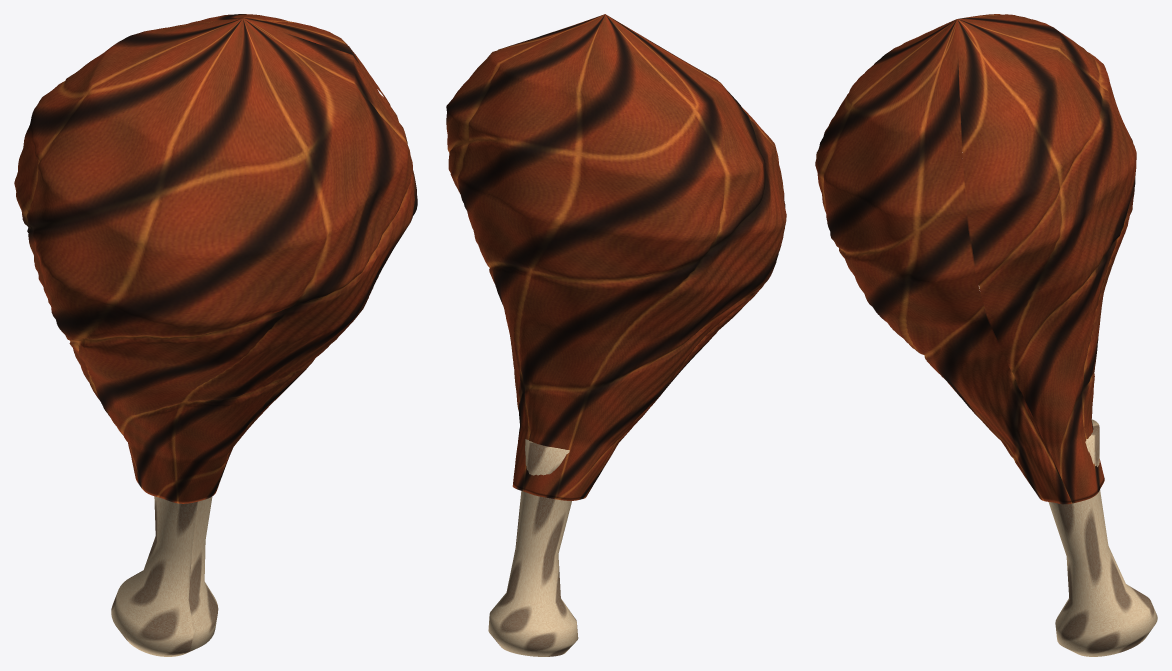
File: roast_haunch.glb
3 renders of one model, left to right at view 1: azimuth 30°, elevation 25°; view 2: azimuth 150°, elevation 25°; view 3: azimuth 270°, elevation 25°, orthographic. The views are drawn at different scales.
Parts seen in each view (by area): view 1: roast_haunch basted chestnut roast with golden fat, Ivory dense cortical bone with residual tissue staining; view 2: roast_haunch basted chestnut roast with golden fat, Ivory dense cortical bone with residual tissue staining; view 3: roast_haunch basted chestnut roast with golden fat, Ivory dense cortical bone with residual tissue staining.
Boxes of the visible parts, x1,y1,x2,y2 form: roast_haunch basted chestnut roast with golden fat: [14, 14, 417, 503]; Ivory dense cortical bone with residual tissue staining: [111, 496, 218, 656]; roast_haunch basted chestnut roast with golden fat: [446, 14, 786, 500]; Ivory dense cortical bone with residual tissue staining: [488, 439, 578, 656]; roast_haunch basted chestnut roast with golden fat: [815, 14, 1136, 504]; Ivory dense cortical bone with residual tissue staining: [1048, 419, 1157, 656].
Bounding box in the file's own units: 0.3406 × 0.6174 × 0.3046.
2 materials, 2 textured.
